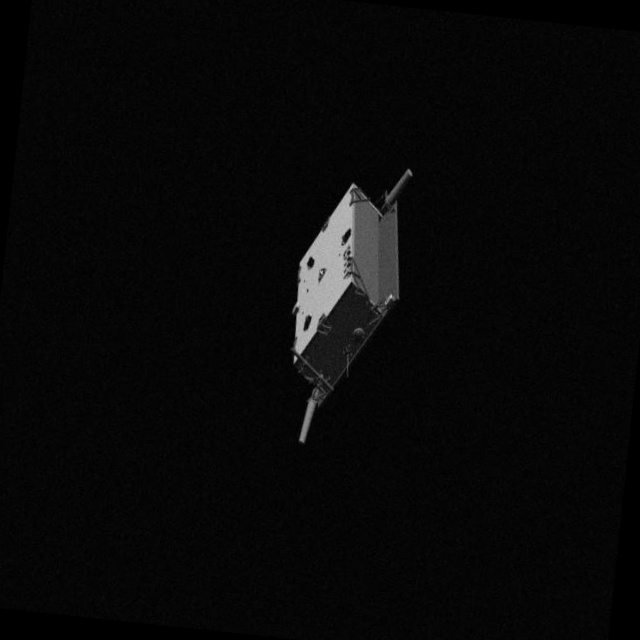satellite: (262, 152, 429, 463)
